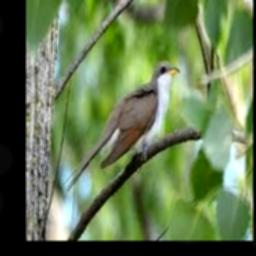Cuckoo: (64, 61, 180, 192)
